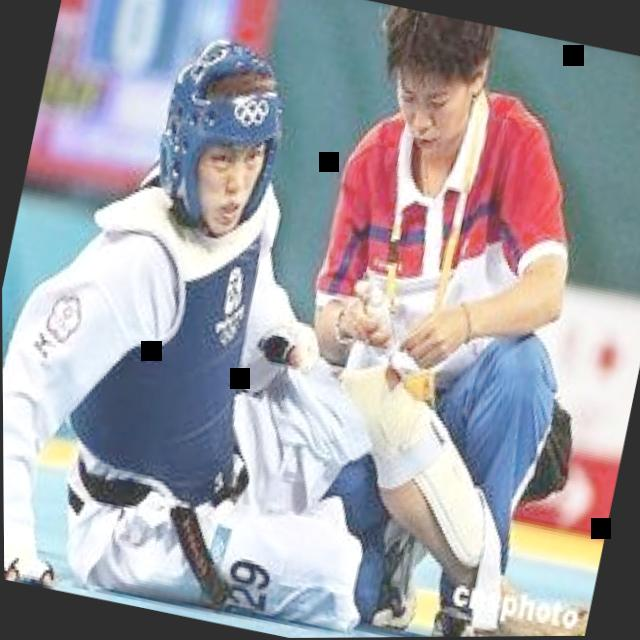Fall-Detected: (0, 0, 586, 640)
